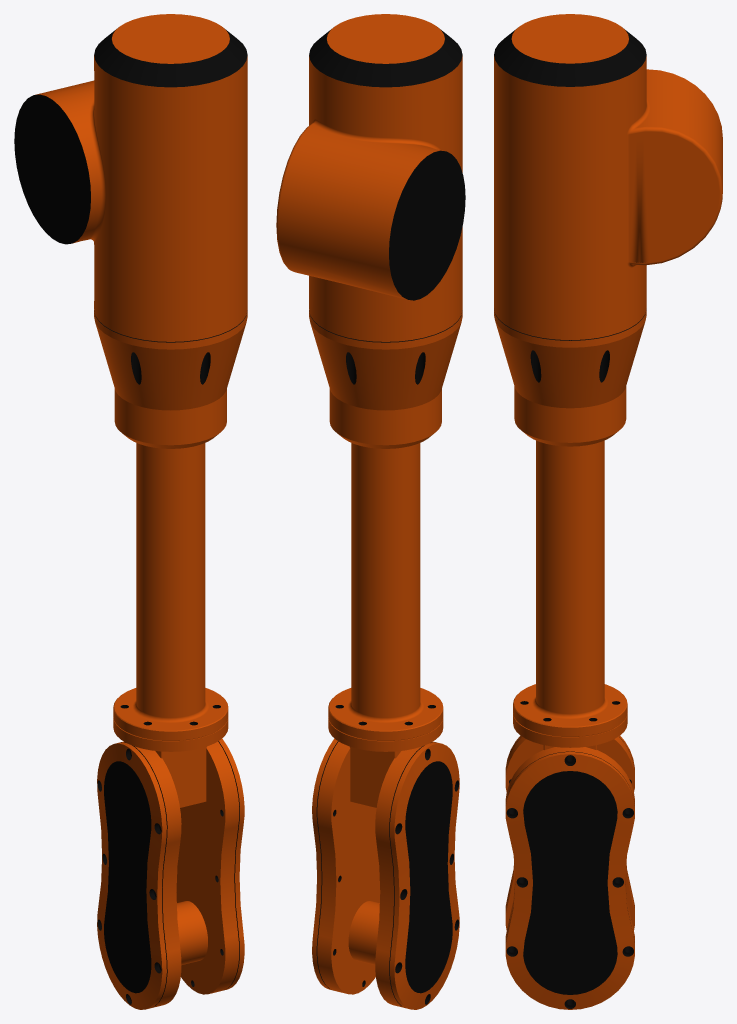
The model's file is arm_3.obj.
The picture shows the model from 3 angles, left to right: view 1: azimuth 30°, elevation 25°; view 2: azimuth 150°, elevation 25°; view 3: azimuth 270°, elevation 25°; orthographic projection.
Visible parts, largest first — view 1: arm_3.001, arm_3_1.001; view 2: arm_3.001, arm_3_1.001; view 3: arm_3.001, arm_3_1.001.
Part boxes in pixels (x1,y1,x2,y2): arm_3.001: [14, 14, 247, 740]; arm_3_1.001: [97, 717, 244, 1009]; arm_3.001: [276, 14, 465, 740]; arm_3_1.001: [312, 717, 459, 1009]; arm_3.001: [494, 14, 722, 736]; arm_3_1.001: [505, 713, 634, 1009].
Size of the model in its own units: 528 by 3303 by 721.
